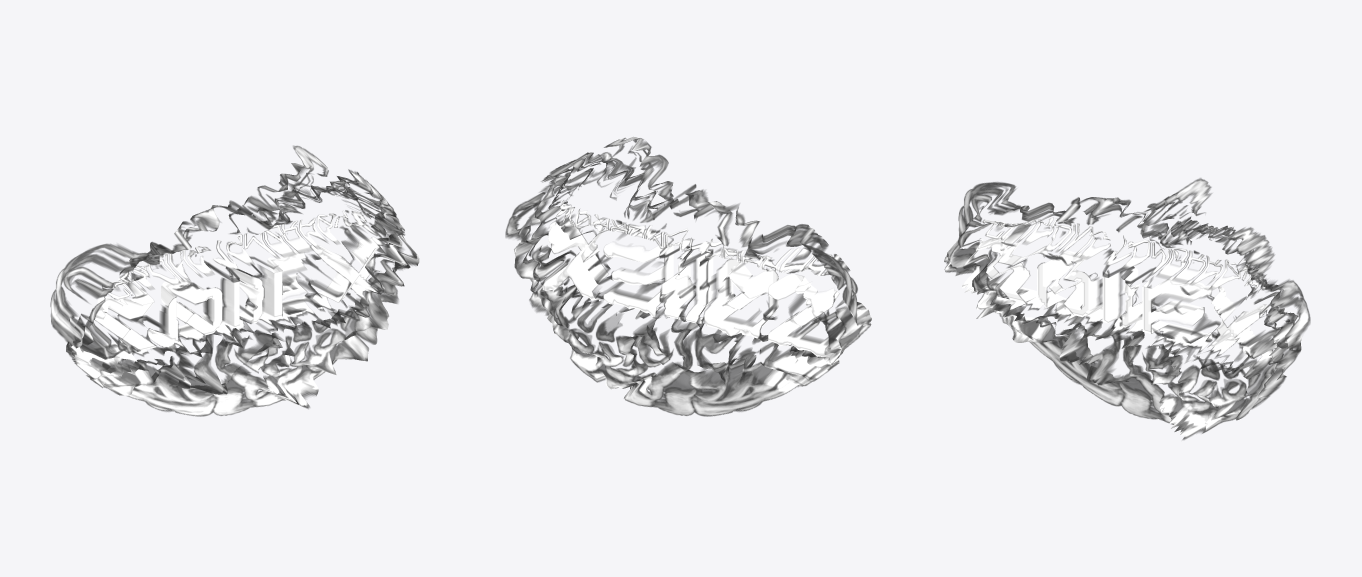
File: zodex.glb
3 renders of one model, left to right at view 1: azimuth 30°, elevation 25°; view 2: azimuth 150°, elevation 25°; view 3: azimuth 330°, elevation 25°, orthographic.
Parts seen in each view (by area): view 1: ZODEX brain logo relief; view 2: ZODEX brain logo relief; view 3: ZODEX brain logo relief.
Part boxes in pixels (left/top/right/bottom): ZODEX brain logo relief: left=50, top=145, right=419, bottom=416; ZODEX brain logo relief: left=505, top=136, right=871, bottom=416; ZODEX brain logo relief: left=944, top=178, right=1310, bottom=439.
Size of the model in its own units: 6 by 6 by 0.48.
1 material, 1 textured.
